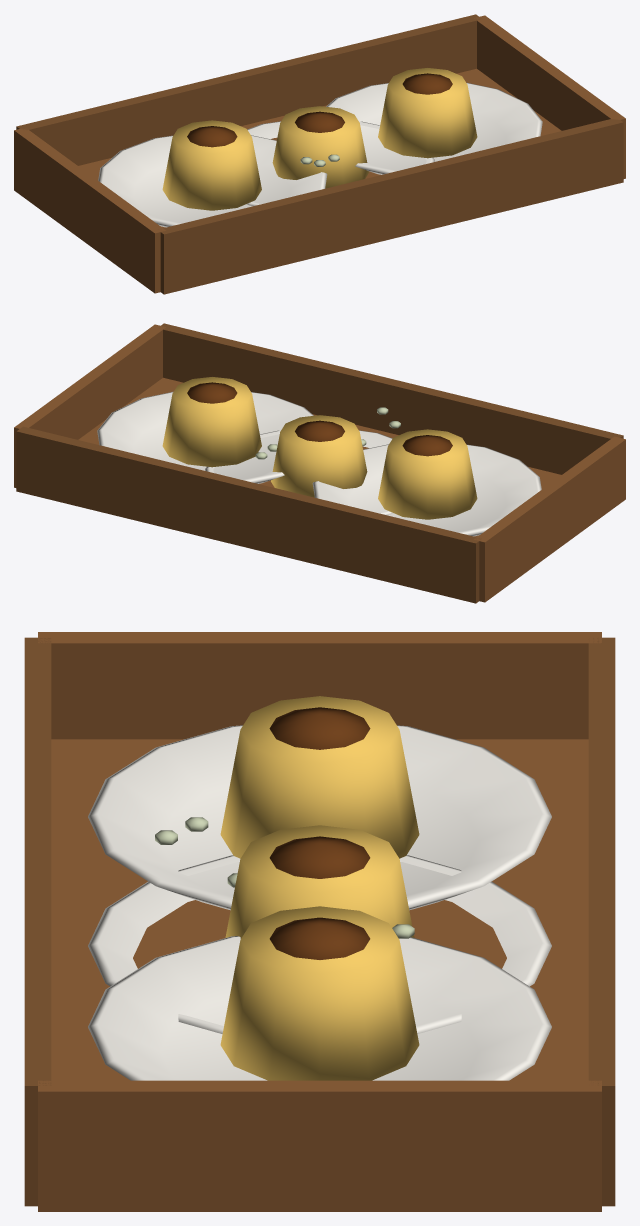
The model's file is Dessert_Pudding.fbx.
The picture shows the model from 3 angles, top to bottom: view 1: azimuth 30°, elevation 25°; view 2: azimuth 150°, elevation 25°; view 3: azimuth 270°, elevation 25°; orthographic projection. The views are drawn at different scales.
Parts seen in each view (by area): view 1: Dessert_Pudding__Stack, Dessert_Pudding; view 2: Dessert_Pudding__Stack, Dessert_Pudding; view 3: Dessert_Pudding__Stack, Dessert_Pudding, Dessert_Pudding__Rotten.
Part boxes in pixels (<box>): Dessert_Pudding__Stack: <box>14,14,625,294</box>; Dessert_Pudding: <box>247,106,434,206</box>; Dessert_Pudding__Stack: <box>14,323,625,603</box>; Dessert_Pudding: <box>205,415,392,515</box>; Dessert_Pudding__Stack: <box>24,632,615,1211</box>; Dessert_Pudding: <box>88,825,551,1033</box>; Dessert_Pudding__Rotten: <box>155,817,414,938</box>.
Size of the model in its own units: 0.328 by 0.054 by 0.178.
